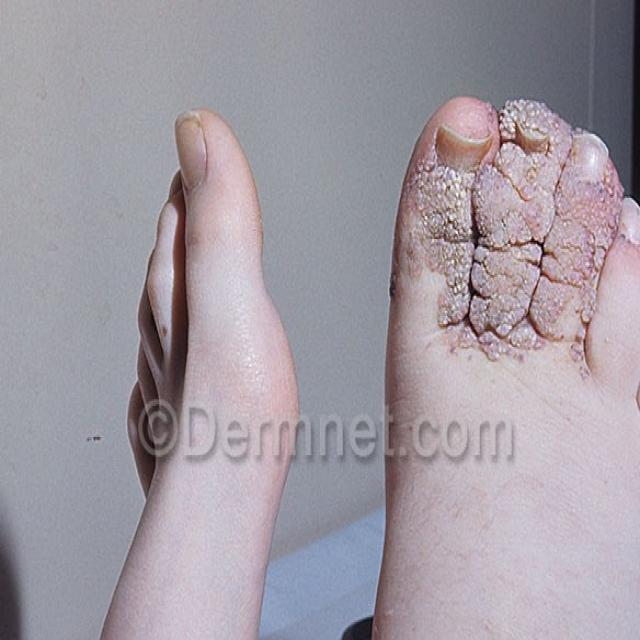Vascular Tumors: (462, 105, 537, 369), (541, 102, 601, 399), (415, 142, 469, 350)
